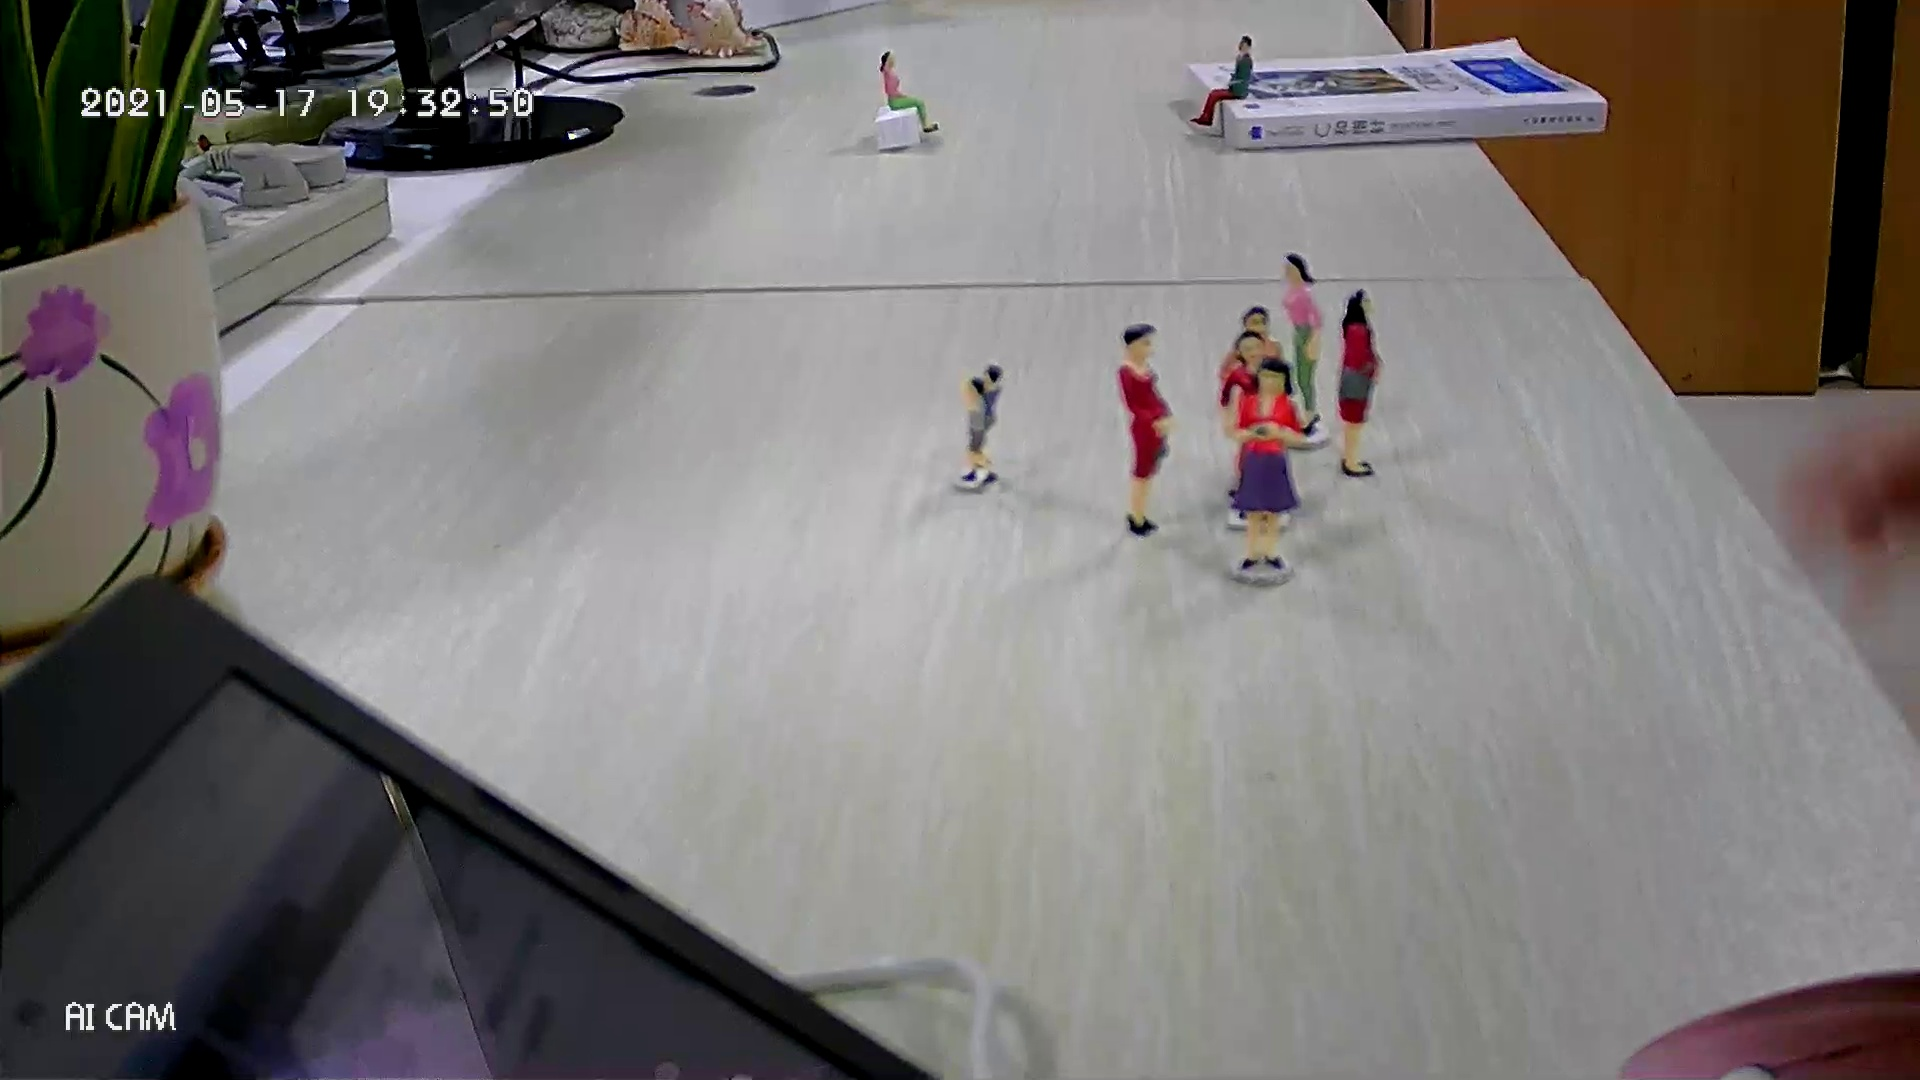person: (1224, 358, 1309, 571), (1215, 304, 1299, 501), (1219, 329, 1293, 522), (1113, 320, 1179, 539), (1335, 287, 1385, 480), (1279, 248, 1326, 438), (1188, 34, 1254, 129), (878, 49, 944, 133), (954, 370, 999, 485), (966, 364, 1005, 472)
